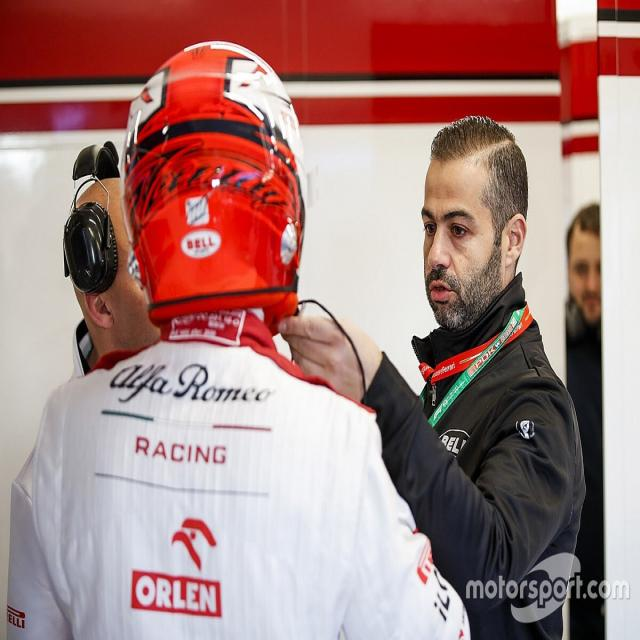Helm: (120, 32, 314, 320)
